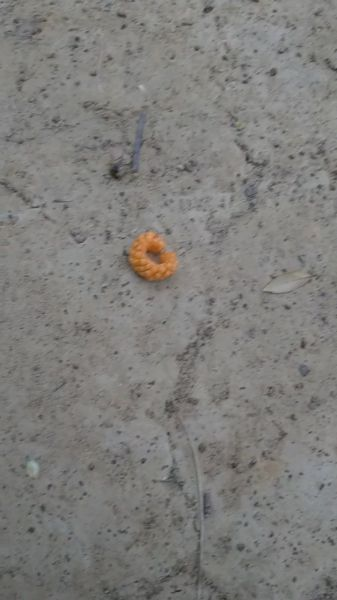eggs: (124, 224, 188, 288)
